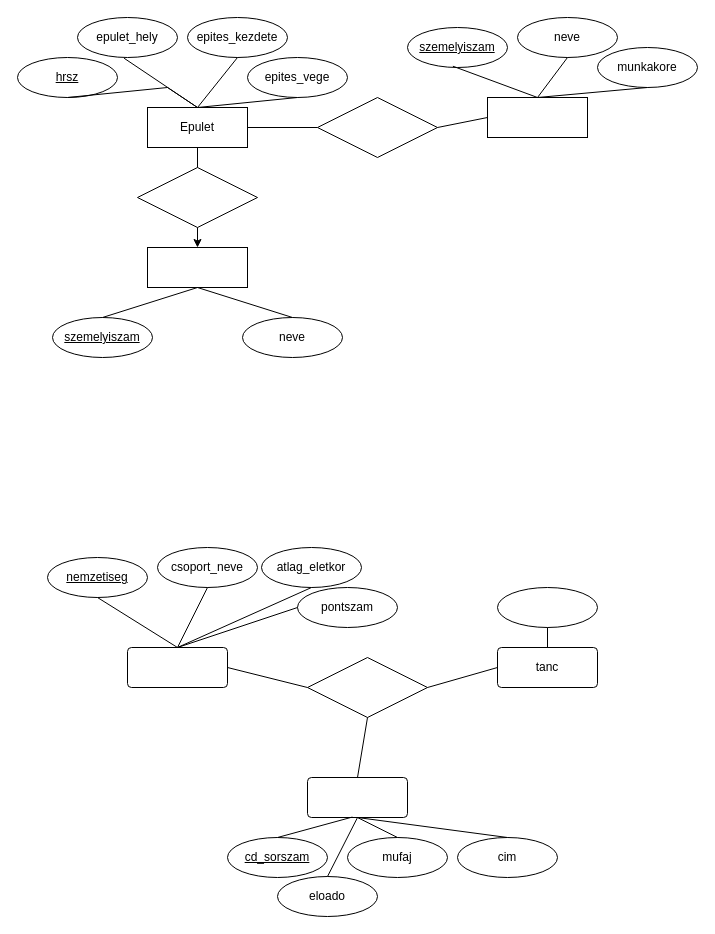
Image size: 715x934. Some labels were removed from this diagram. The centre of each missing label's shape, as x and y in pixels:
"csoport" goes at (x=177, y=667).
"Dolgozik" goes at (x=377, y=127).
"Epitesz" goes at (x=197, y=267).
"Munkas" goes at (x=537, y=117).
"tanc_neve" goes at (x=547, y=607).
"tancol" goes at (x=367, y=687).
"Tervez" goes at (x=197, y=197).
"zene" goes at (x=357, y=797).
